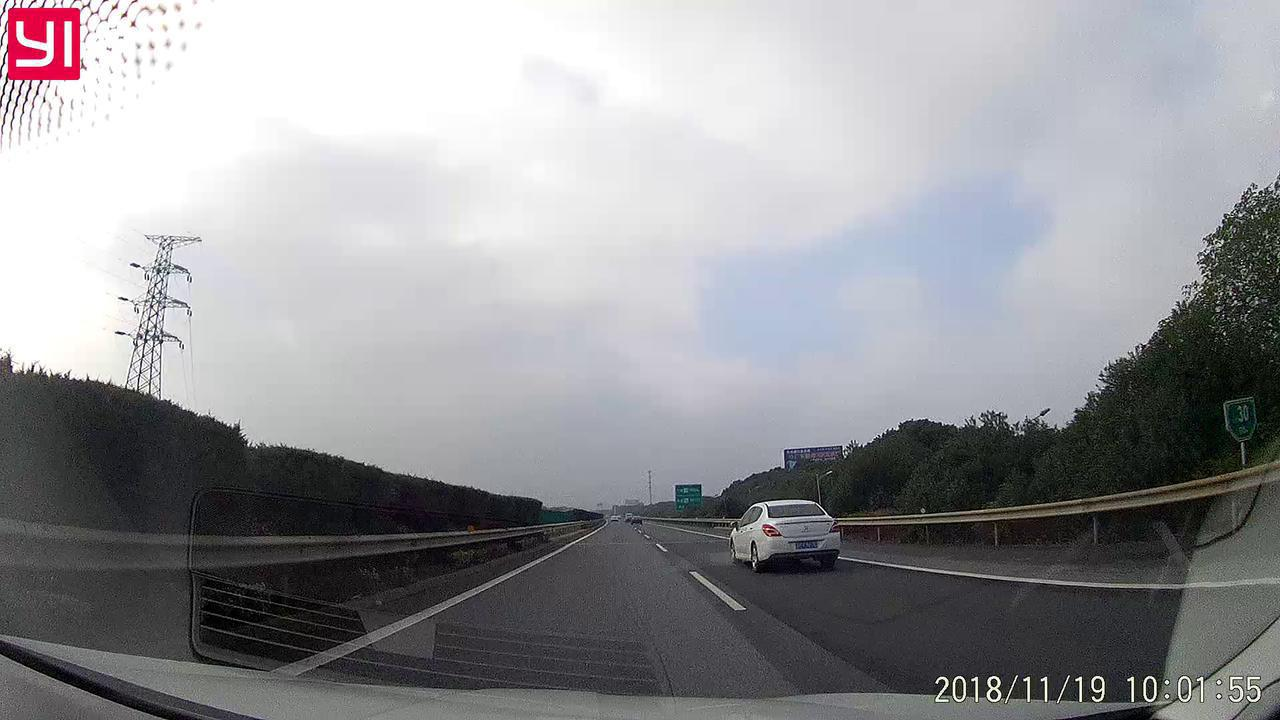car: (728, 499, 840, 573)
